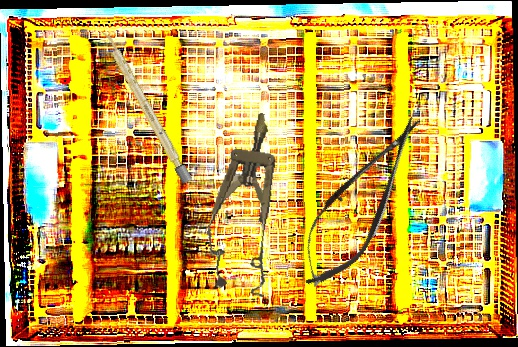Micro Scissor: (282, 102, 441, 300)
Scalpel Handle: (99, 28, 193, 185)
Speculum: (197, 107, 296, 298)
